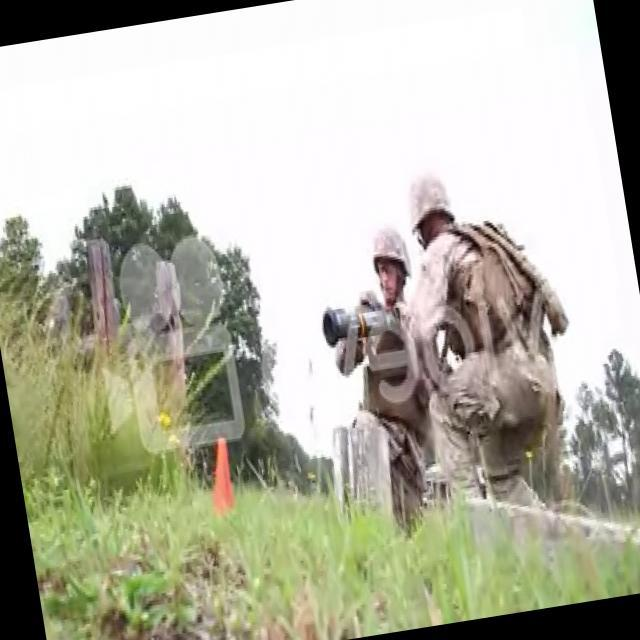rocket: (322, 296, 404, 350)
